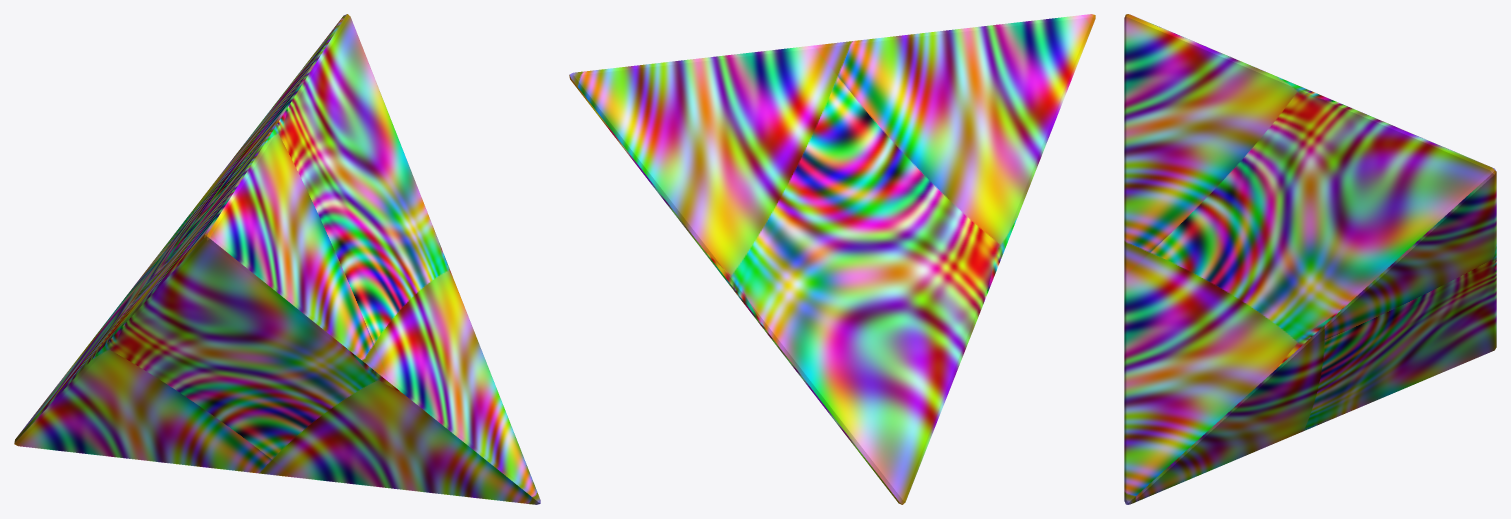
The model's file is tetrahedron1.dae.
The picture shows the model from 3 angles, left to right: view 1: azimuth 30°, elevation 25°; view 2: azimuth 150°, elevation 25°; view 3: azimuth 270°, elevation 25°; orthographic projection. The views are drawn at different scales.
Visible parts, largest first — view 1: Tetrahedron; view 2: Tetrahedron; view 3: Tetrahedron.
Part boxes in pixels (x1,y1,x2,y2): Tetrahedron: [14, 14, 540, 504]; Tetrahedron: [569, 14, 1095, 504]; Tetrahedron: [1124, 14, 1496, 504].
Size of the model in its own units: 1.97 by 1.97 by 1.97.
Materials: 4 (4 with a texture image).
